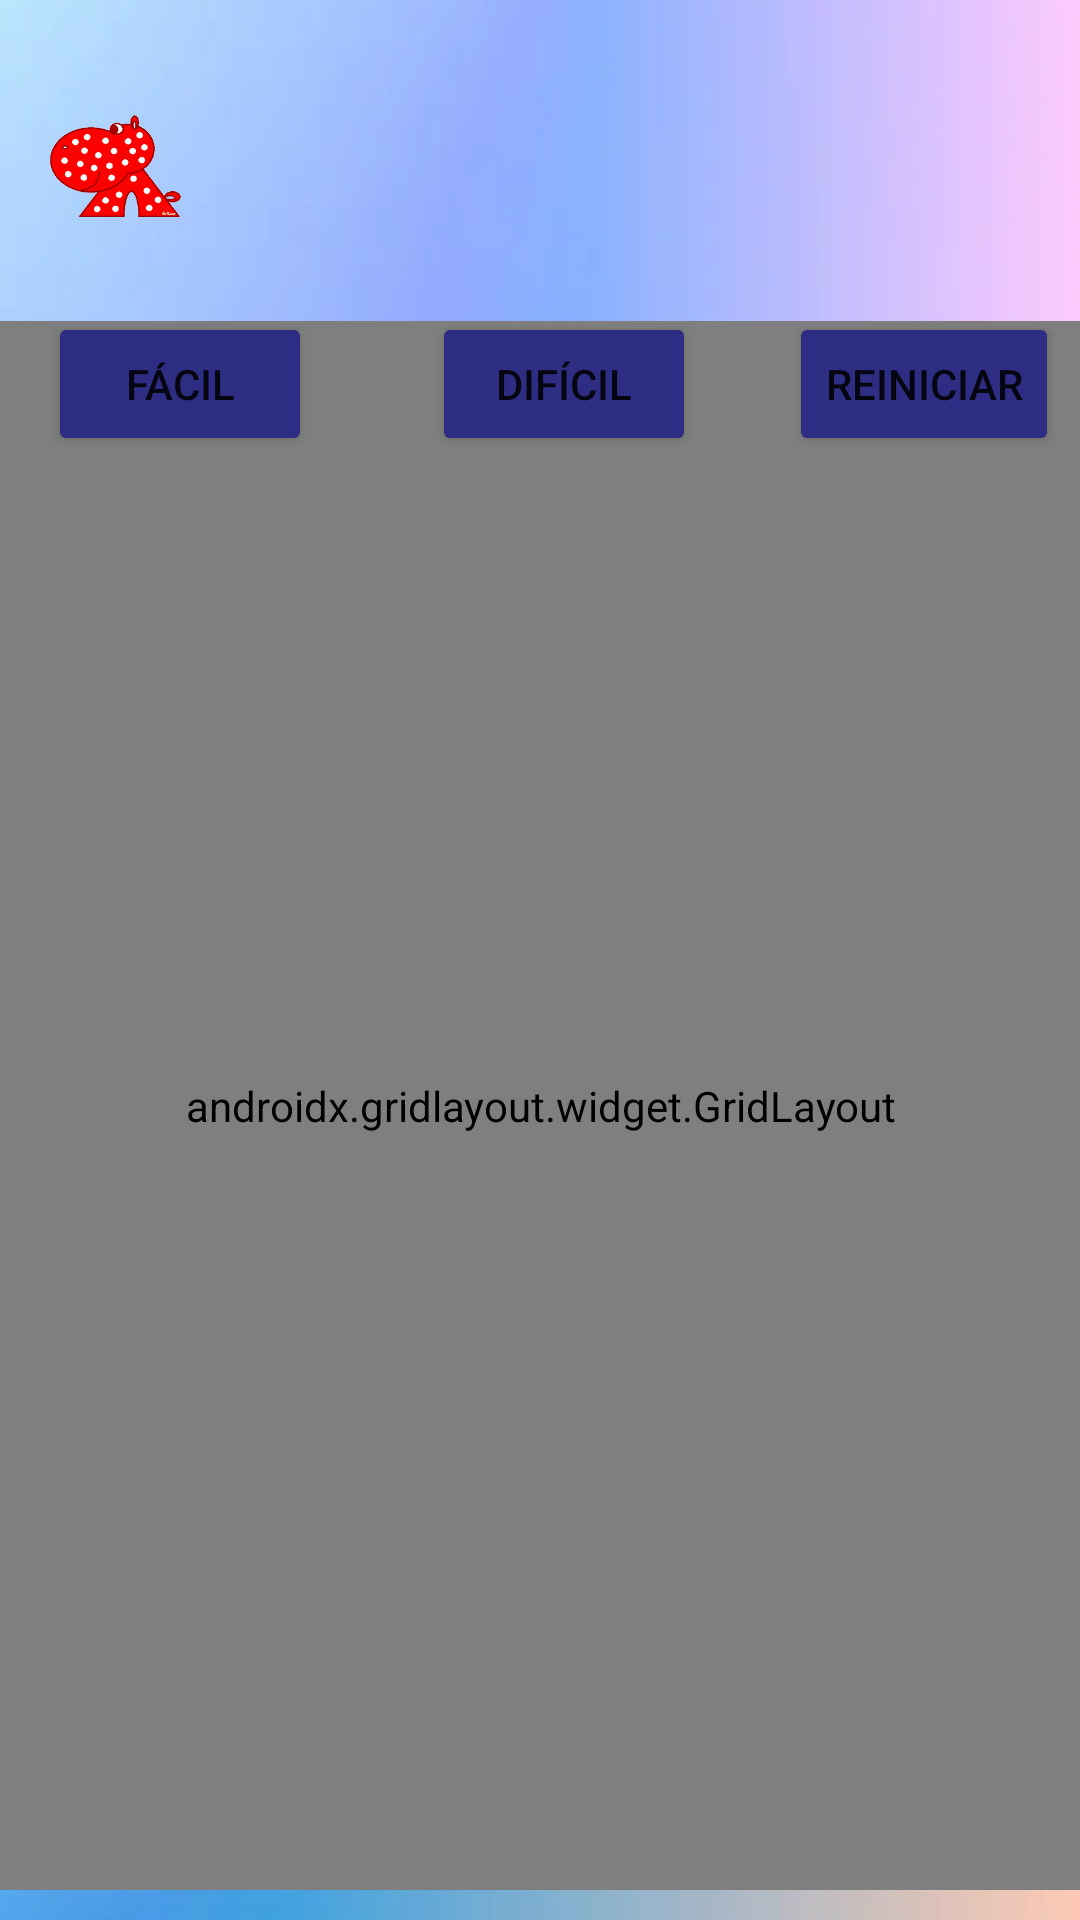

Named icons in this screenshot (1080×1920) and their bounding boxes, rect(x1, y1, x2, y2):
hipotenocha: rect(50, 115, 181, 217)
